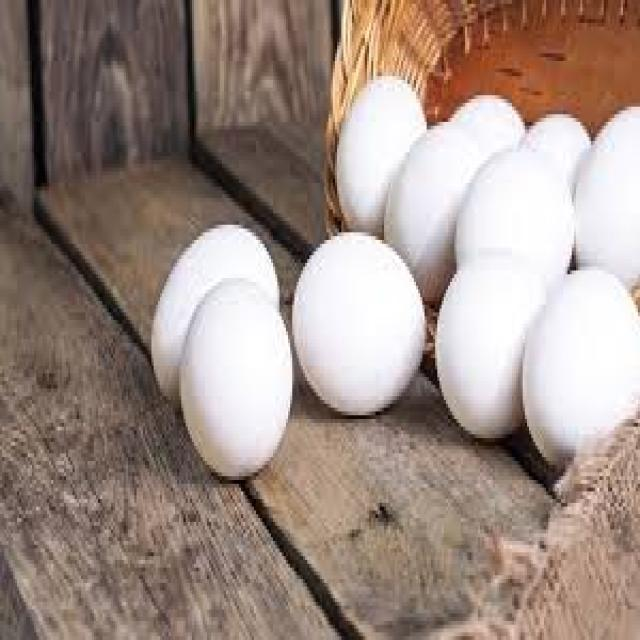White Egg: (183, 258, 296, 493), (518, 253, 640, 455), (295, 228, 424, 407), (437, 240, 541, 437), (454, 140, 575, 298), (329, 73, 418, 247), (372, 124, 461, 288), (580, 141, 640, 289)
